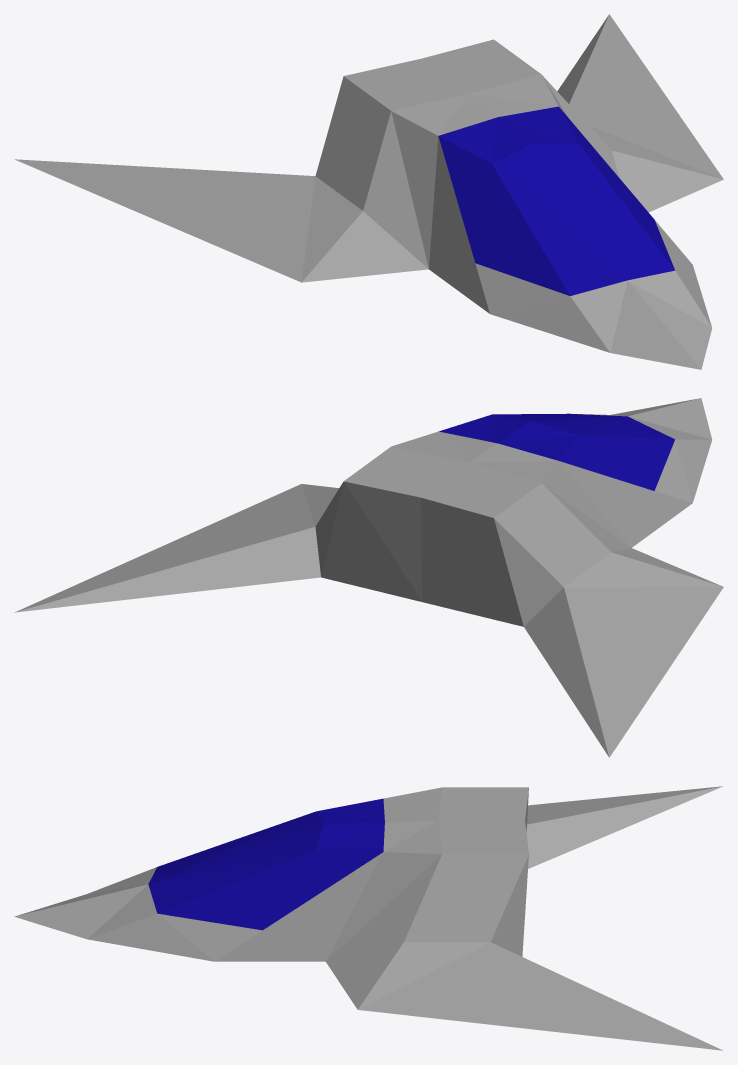
The model's file is fighter.obj.
The picture shows the model from 3 angles, top to bottom: view 1: azimuth 30°, elevation 25°; view 2: azimuth 150°, elevation 25°; view 3: azimuth 270°, elevation 25°; orthographic projection. The views are drawn at different scales.
Parts seen in each view (by area): view 1: Cube; view 2: Cube; view 3: Cube.
Boxes of the visible parts, left/top/right/bottom form: Cube: left=14, top=14, right=723, bottom=369; Cube: left=14, top=398, right=723, bottom=757; Cube: left=14, top=786, right=722, bottom=1050.
Bounding box in the file's own units: 6.51 × 1.13 × 7.38.
